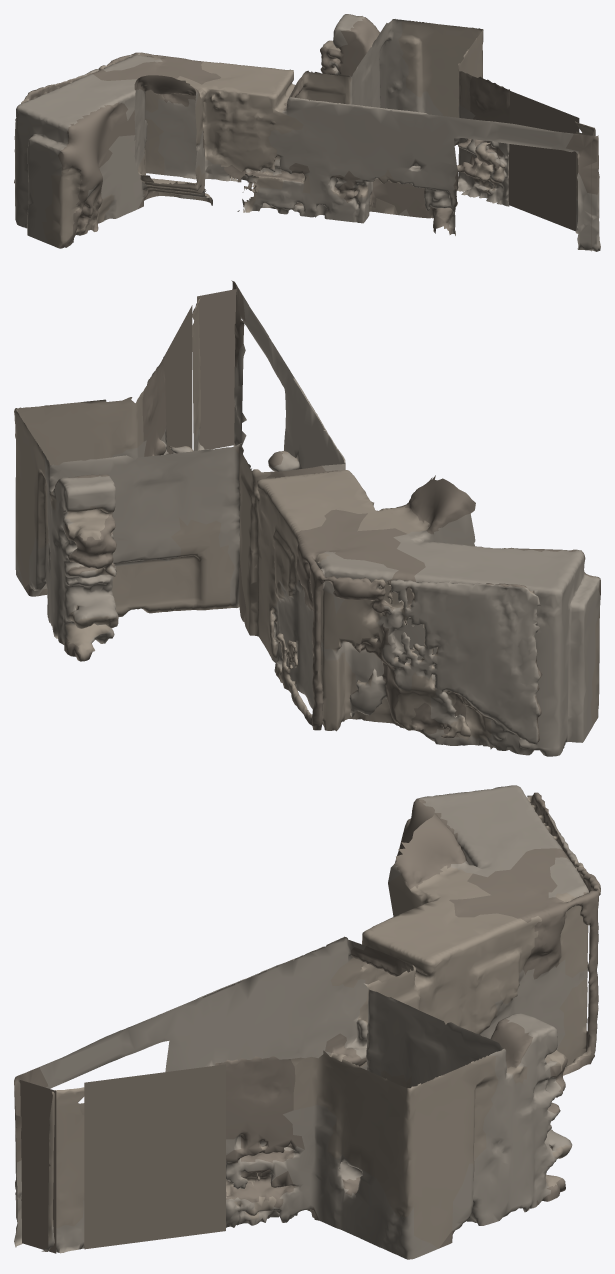
The model's file is COULOIR.fbx.
3 renders of one model, top to bottom at view 1: azimuth 30°, elevation 25°; view 2: azimuth 150°, elevation 25°; view 3: azimuth 270°, elevation 25°, orthographic. The views are drawn at different scales.
Parts seen in each view (by area): view 1: COULOIR; view 2: COULOIR; view 3: COULOIR.
Part boxes in pixels (x1,y1,x2,y2): COULOIR: [14, 14, 600, 251]; COULOIR: [14, 280, 600, 756]; COULOIR: [14, 785, 600, 1259].
Size of the model in its own units: 931 by 300 by 753.
